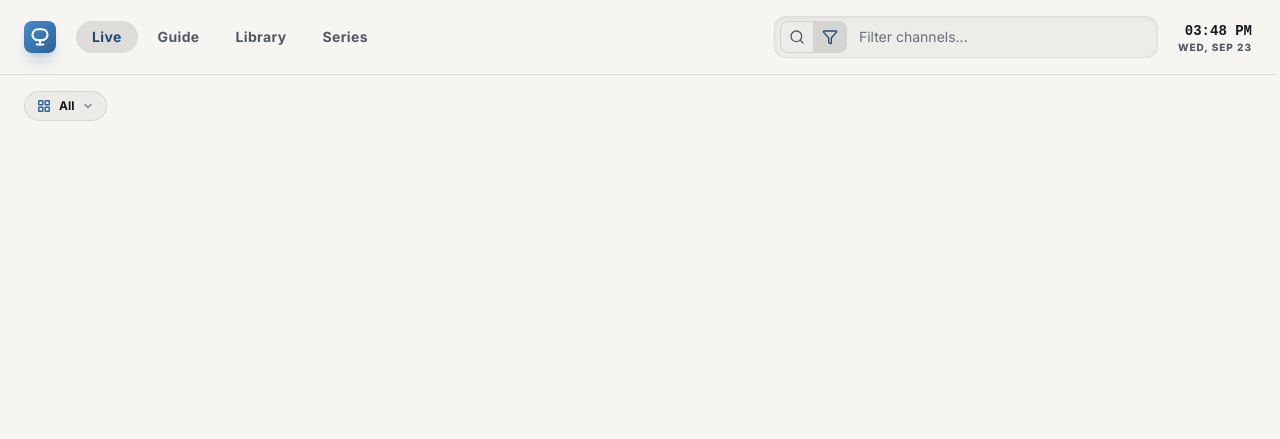
Scenario: Live TV's content filter › filters from that control
Click the button "All".
click(66, 106)  # box [24,91,108,121]
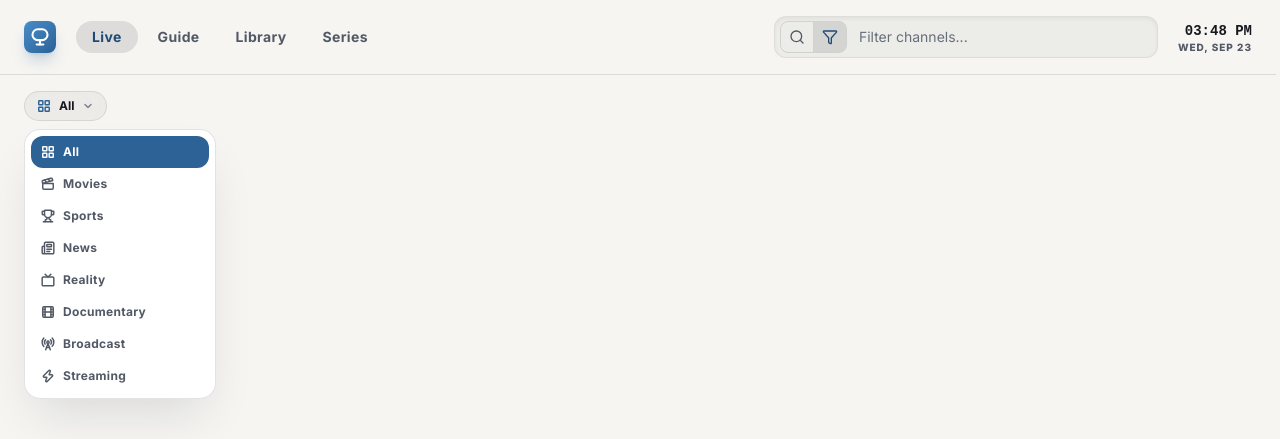
Click the menu item "Sports".
click(120, 216)  # box [31,200,209,232]
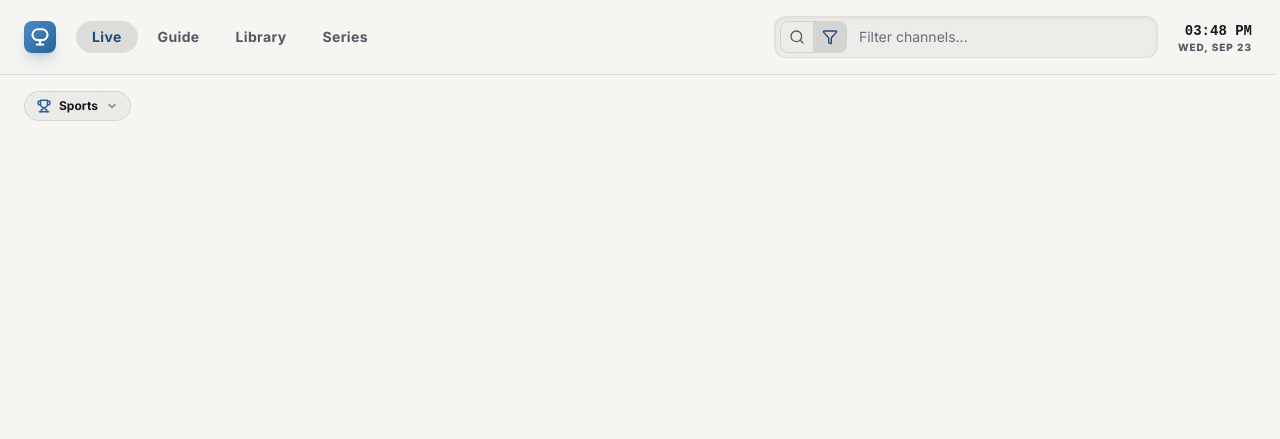
Expected: the button "Sports" is shown, [24,91,131,121]
